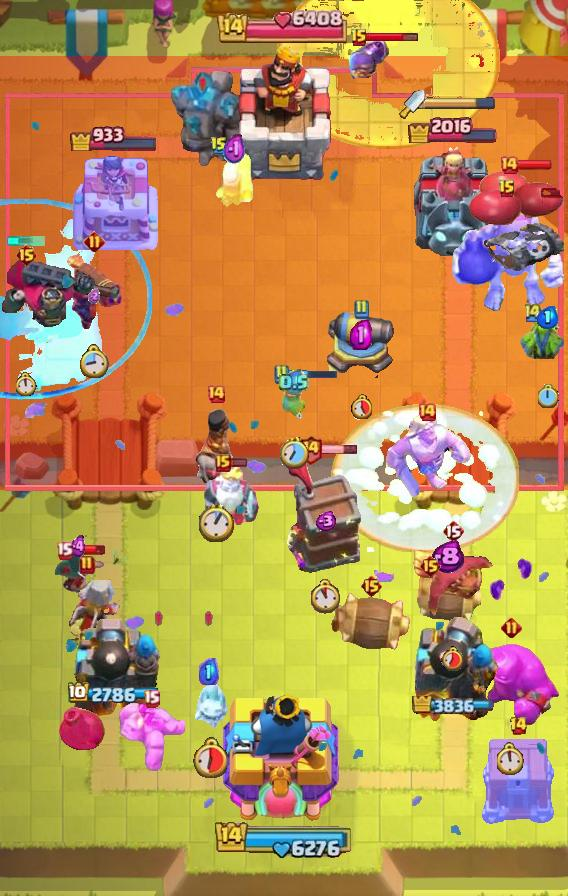baby-dragon: (56, 702, 108, 756)
bar: (409, 142, 497, 256)
bat: (187, 681, 231, 731)
bomb: (479, 739, 557, 825)
cannoneer-tower: (168, 71, 252, 169)
clock: (214, 819, 354, 859), (217, 9, 351, 43)
clone: (462, 642, 560, 728)
dart-goblin: (286, 455, 364, 575)
electro-giant: (448, 195, 566, 313)
electro-spirit: (430, 540, 464, 574), (279, 368, 309, 395), (223, 133, 246, 167), (350, 320, 372, 350), (199, 658, 219, 686), (537, 307, 559, 330), (313, 511, 337, 531), (69, 534, 87, 558), (88, 288, 100, 304)
elite-barbarian: (194, 408, 238, 494)
elixir: (192, 737, 227, 778), (199, 502, 234, 541), (308, 579, 342, 614), (79, 344, 109, 378), (280, 437, 309, 469), (497, 742, 525, 774), (441, 645, 465, 671), (351, 393, 373, 419), (16, 372, 37, 396), (538, 384, 559, 408)
emote: (286, 368, 338, 380), (366, 33, 419, 44), (517, 159, 553, 171), (70, 544, 106, 556), (322, 444, 359, 455), (228, 456, 248, 468)
firecracker-evolution: (348, 36, 390, 79)
goblin-hut: (383, 414, 471, 500)
hog-rider: (275, 370, 313, 422)
ice-spirit: (6, 236, 46, 246)
inferno-tower: (0, 256, 122, 346)
king-tower: (223, 689, 345, 826), (230, 43, 338, 181)
king-tower-bar: (425, 97, 495, 111)
mega-minion: (64, 251, 124, 331)
mortar-evolution: (204, 462, 260, 528)
mother-witch: (410, 542, 496, 626)
pad_0: (0, 199, 152, 401)
phoenix-big: (331, 404, 519, 552)
phoenix-egg: (276, 0, 500, 148)
poison: (46, 578, 128, 652)
queen-tower: (67, 152, 161, 256)
royal-recruit: (324, 308, 398, 378)
royal-recruit-evolution: (466, 169, 568, 277)
selected: (407, 113, 499, 142), (69, 123, 159, 151), (67, 682, 160, 706), (413, 696, 496, 714)
tesla: (52, 550, 104, 602)
text: (298, 434, 323, 465), (15, 243, 38, 267), (418, 554, 441, 578), (361, 574, 384, 598), (442, 519, 464, 543), (83, 231, 105, 252), (501, 617, 522, 639), (523, 301, 543, 322), (499, 155, 519, 175), (206, 384, 226, 404), (417, 402, 437, 422), (509, 716, 528, 736), (350, 28, 368, 48), (210, 136, 228, 156), (498, 179, 516, 199), (55, 540, 73, 559), (353, 299, 369, 319), (273, 364, 289, 384), (79, 555, 95, 575), (144, 689, 161, 707), (215, 454, 231, 472)
the-log: (329, 590, 413, 652), (410, 570, 484, 622)
tombstone: (213, 151, 255, 209)
tower-bar: (403, 615, 503, 731), (67, 611, 161, 731)
valkyrie-evolution: (117, 701, 185, 773)
zap: (518, 311, 568, 359)
